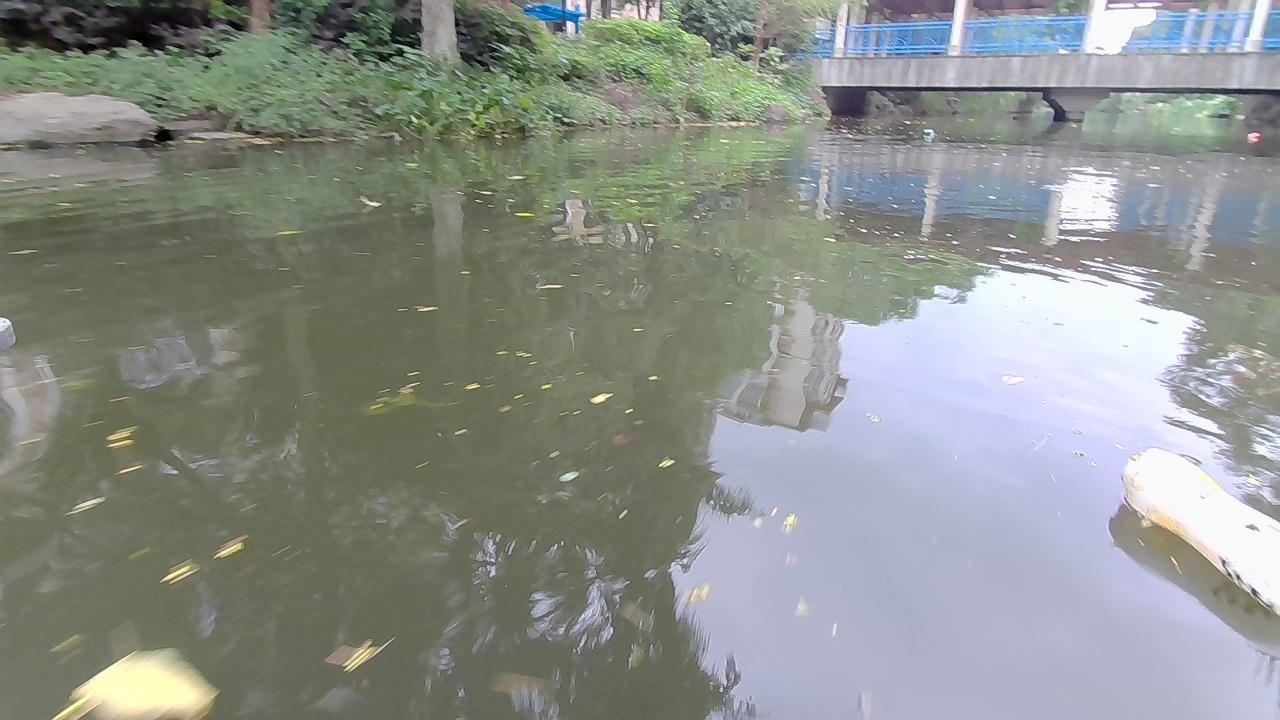bottle: (1121, 446, 1279, 624), (920, 125, 938, 138), (1247, 128, 1256, 140)
